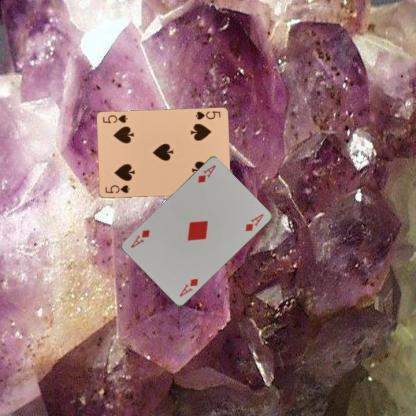5s: (192, 109, 222, 121), (102, 182, 131, 194)
Ad: (196, 162, 218, 184), (177, 276, 199, 298)
